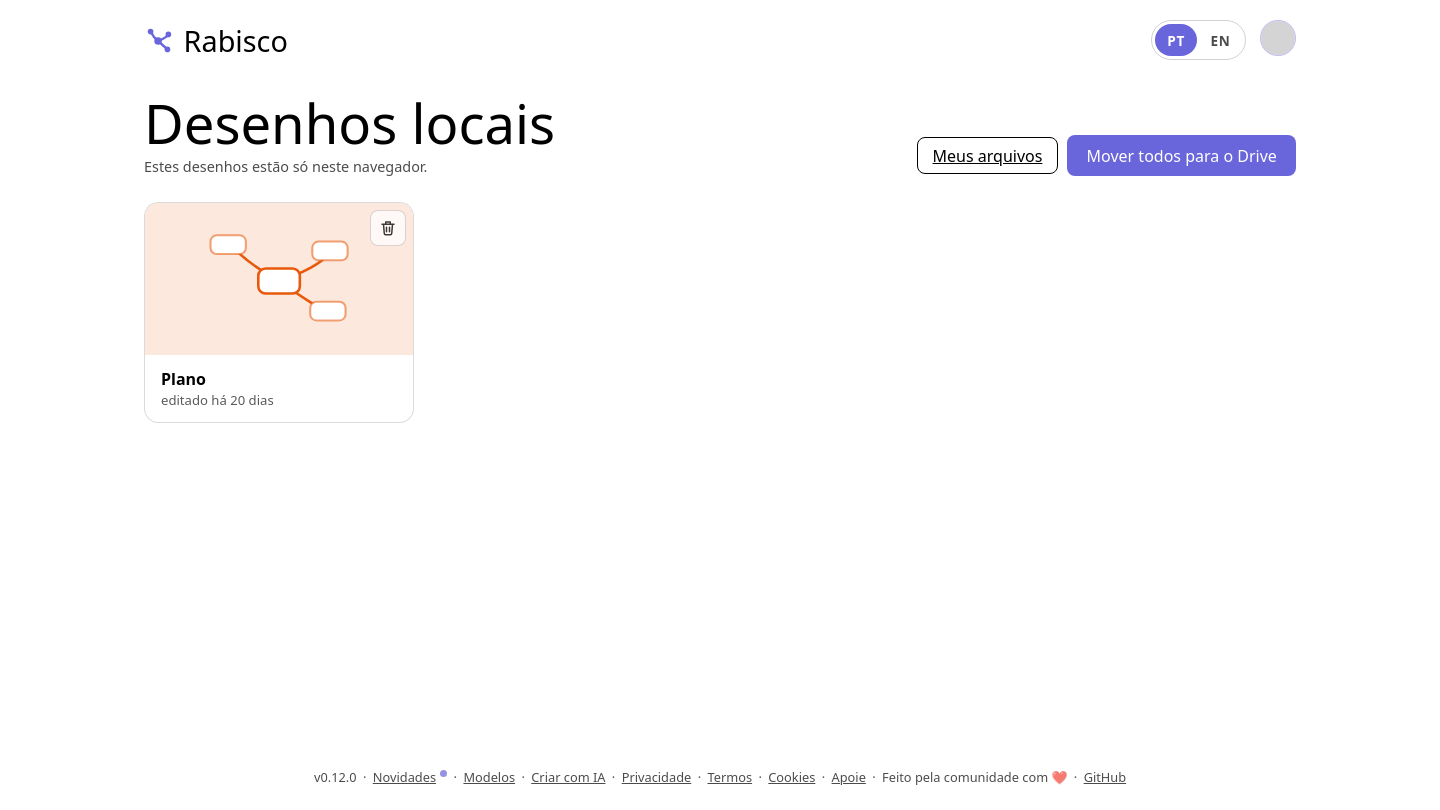
Test: deletes a drawing kept in this browser, after asking, through the local client
This screenshot has width=1440, height=810.
Click the button named "Apagar “Plano”".
click(388, 228)  # box [370, 210, 406, 246]
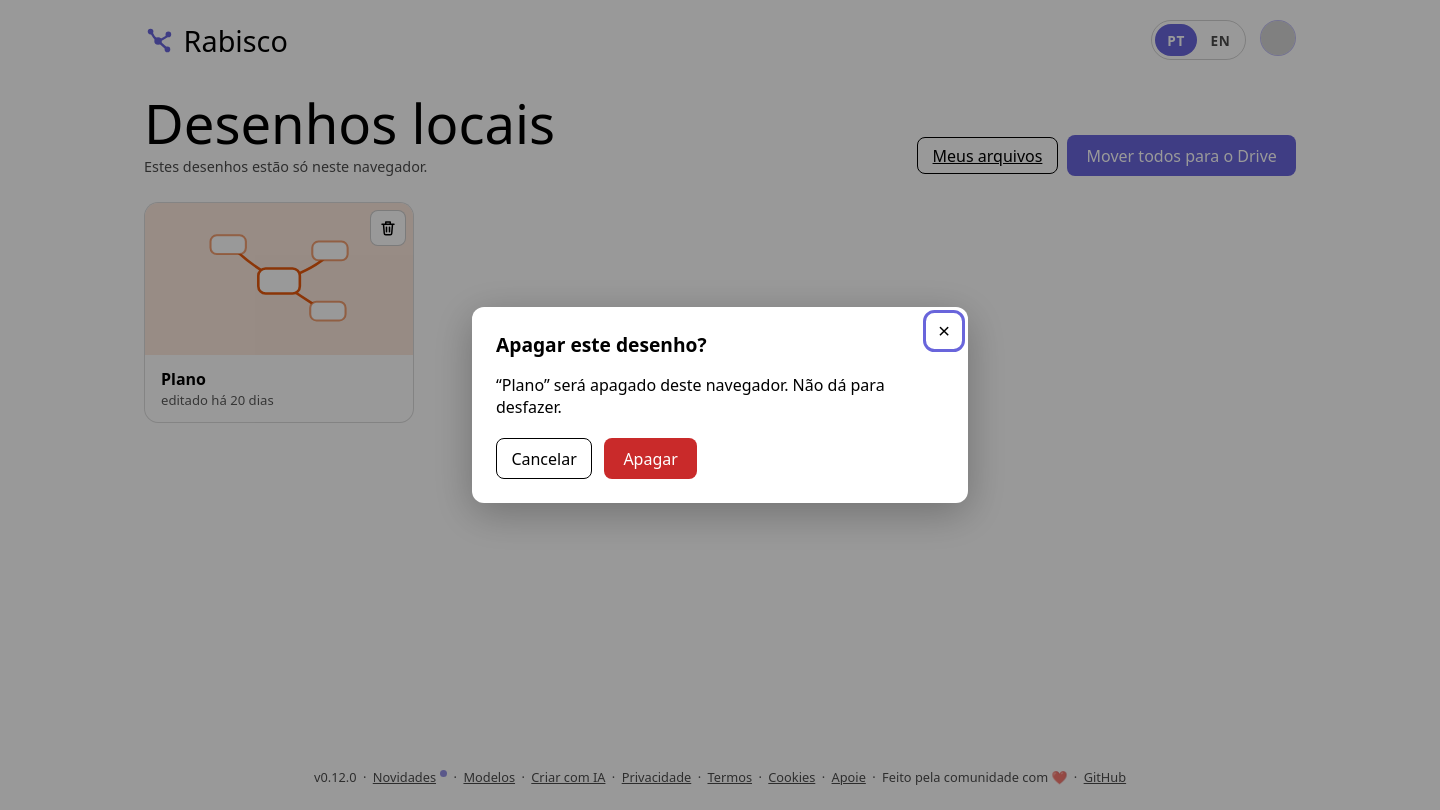
Expected: the dialog "Apagar este desenho?" shows "Não dá para desfazer.", [496, 374, 885, 418]
Click the button "Apagar".
click(651, 458)  # box [604, 438, 697, 479]
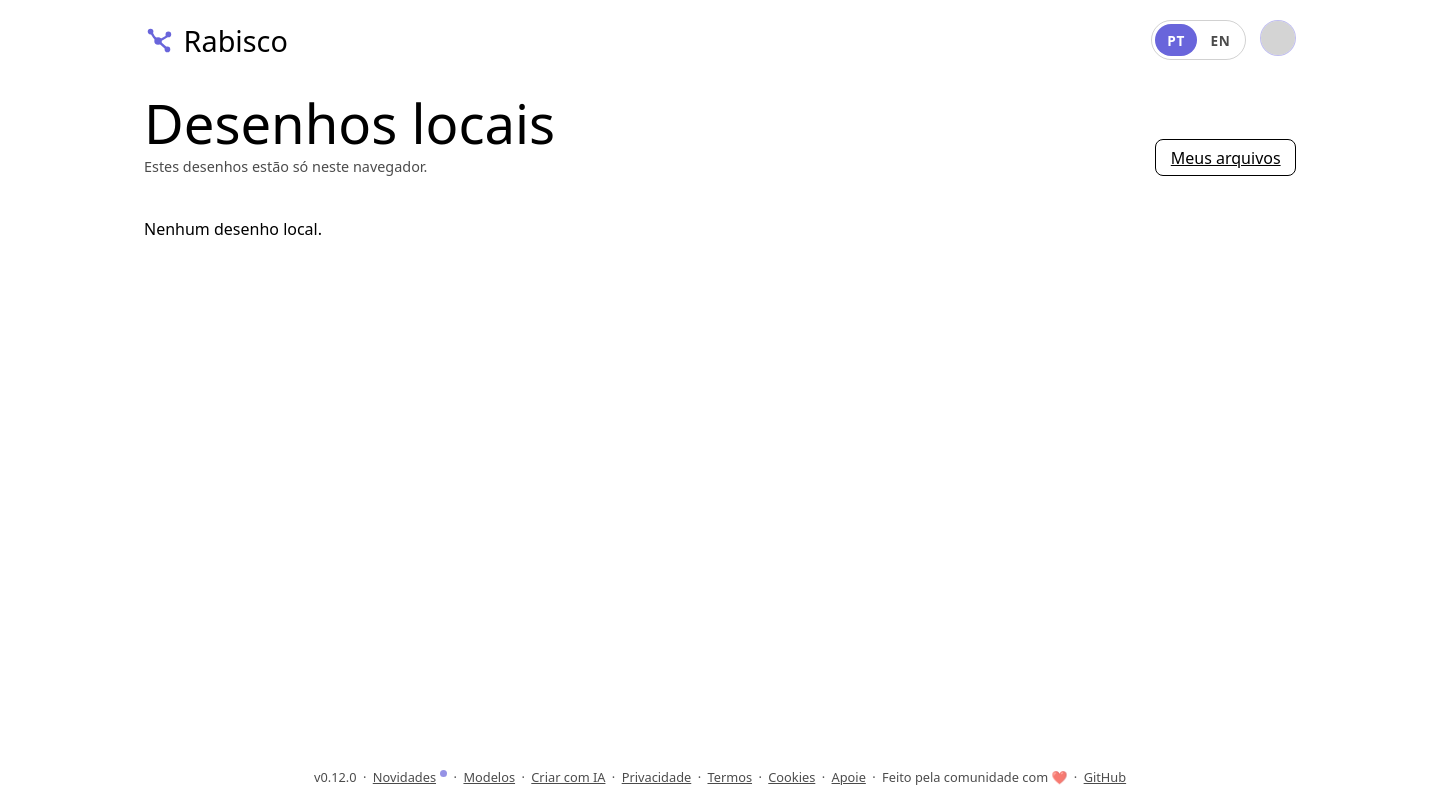
Expected: the link "Plano" is gone
